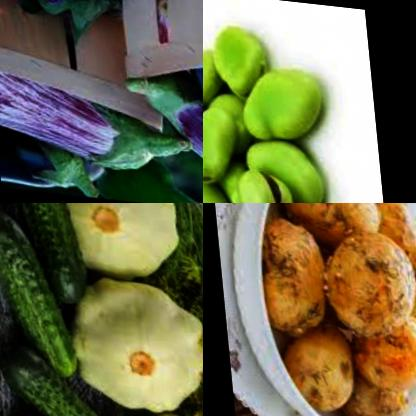beans: (203, 9, 356, 203)
cucumber: (0, 203, 76, 377), (0, 332, 116, 416), (0, 203, 92, 304)
eggplant: (0, 74, 185, 181), (114, 63, 203, 170), (0, 131, 115, 199)
potato: (315, 226, 416, 340), (248, 212, 335, 339), (266, 316, 361, 416), (344, 299, 416, 390), (332, 347, 416, 416), (269, 203, 384, 246), (361, 203, 416, 257), (394, 233, 416, 323)
squash-patisson: (73, 269, 203, 416), (59, 203, 182, 284)
